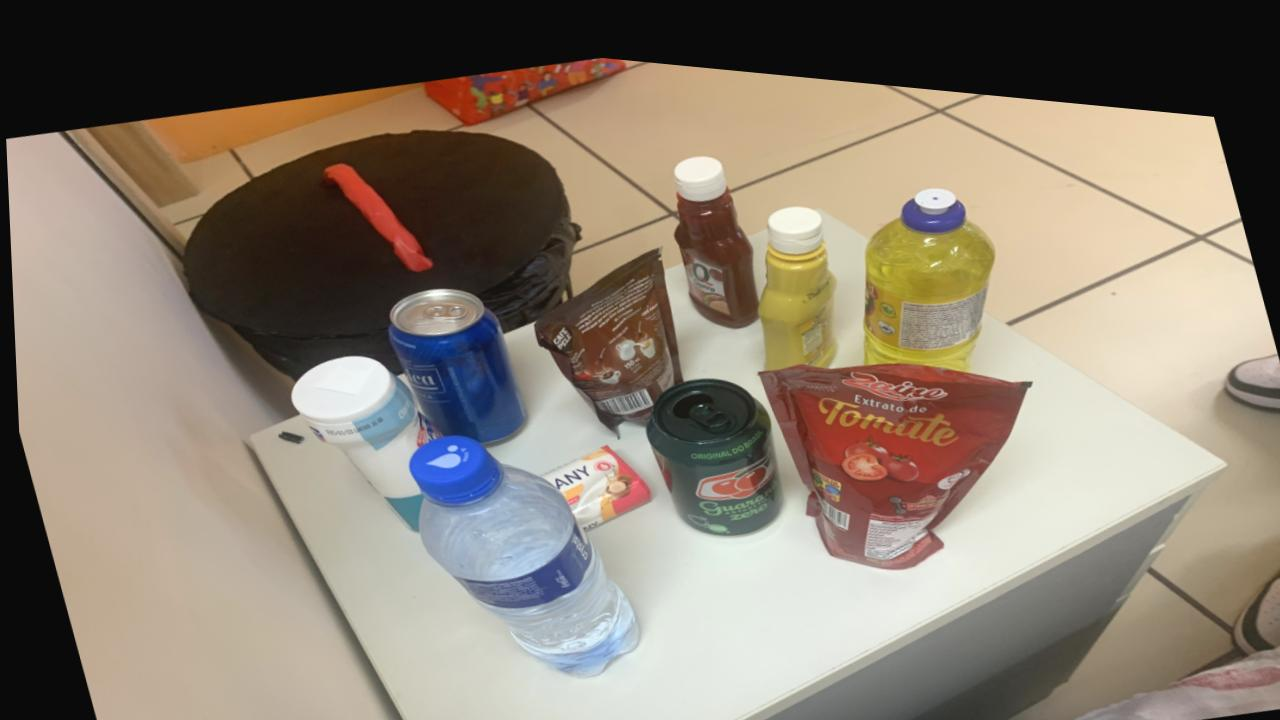Cleaner-Cleanup_Items: (288, 348, 433, 522)
Coffee-Pantry_Items: (531, 236, 681, 421)
Detergent-Cleanup_Items: (861, 168, 994, 351)
Guarana_Can-Drinks: (642, 364, 779, 521)
Ketchup-Pantry_Items: (671, 141, 757, 313)
Mustard-Pantry_Items: (756, 190, 834, 354)
Soap-Cleanup_Items: (539, 434, 647, 518)
Tomato_Sauce-Pantry_Items: (758, 345, 1028, 551)
Tonic-Drinks: (384, 279, 523, 433)
Water_Bottle-Drinks: (404, 425, 634, 665)
